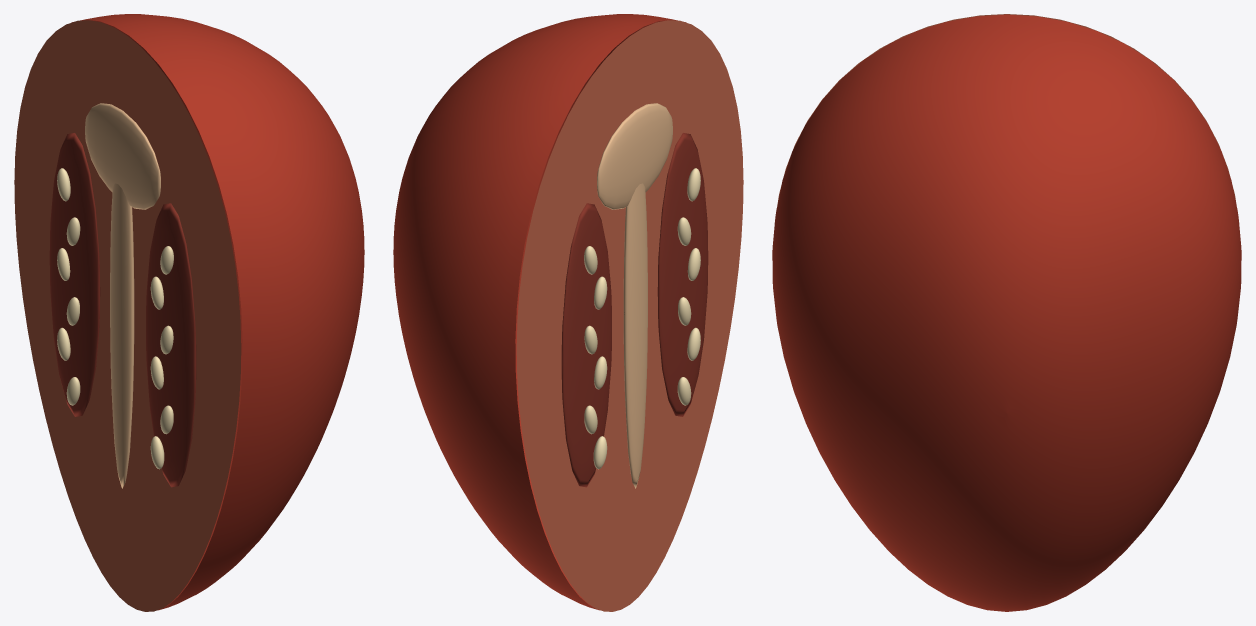
File: plum_half.glb
3 views of the same model, side by side, from view 1: azimuth 30°, elevation 25°; view 2: azimuth 150°, elevation 25°; view 3: azimuth 270°, elevation 25° (orthographic). The views are drawn at different scales.
Parts seen in each view (by area): view 1: Thick Plum flesh cap, Prepared Plum half, Narrow longitudinal Plum locule, Long narrow Plum central pith, Modeled Plum gallery seed; view 2: Thick Plum flesh cap, Prepared Plum half, Narrow longitudinal Plum locule, Long narrow Plum central pith, Modeled Plum gallery seed; view 3: Prepared Plum half, Thick Plum flesh cap.
Part boxes in pixels (x1,y1,x2,y2): Thick Plum flesh cap: [14, 20, 241, 611]; Prepared Plum half: [71, 14, 364, 610]; Narrow longitudinal Plum locule: [49, 133, 196, 487]; Long narrow Plum central pith: [85, 103, 160, 488]; Modeled Plum gallery seed: [57, 168, 173, 469]; Thick Plum flesh cap: [516, 20, 743, 611]; Prepared Plum half: [393, 14, 686, 610]; Narrow longitudinal Plum locule: [561, 133, 708, 487]; Long narrow Plum central pith: [597, 103, 672, 488]; Modeled Plum gallery seed: [584, 168, 700, 469]; Prepared Plum half: [772, 14, 1241, 611]; Thick Plum flesh cap: [774, 14, 1239, 222].
Bounding box in the file's own units: 0.5321 × 1.24 × 0.9004.
